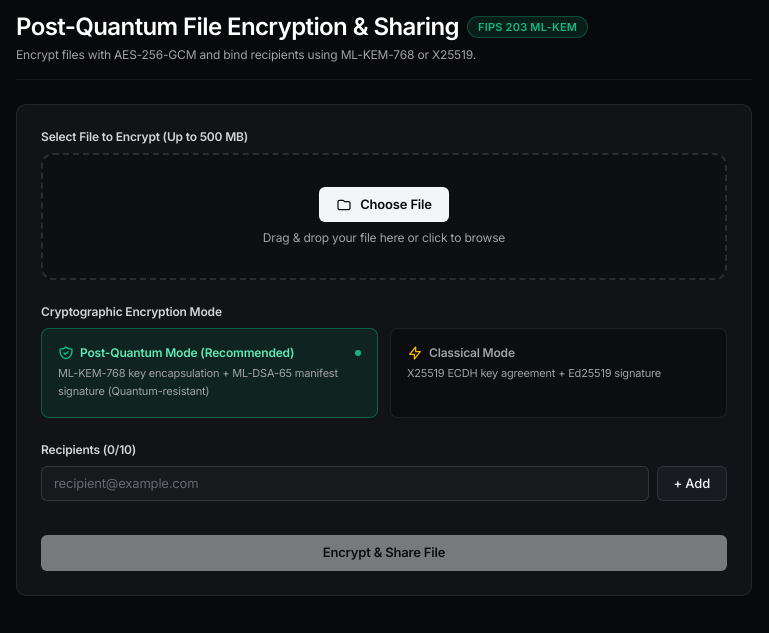
Test case: FileUpload Component › adds and removes recipient email pills
Note: Add first recipient
Type "bob@example.com" into the field labelled "Recipients (0/10)".
click(345, 484); type("bob@example.com")  # box [41, 466, 648, 501]
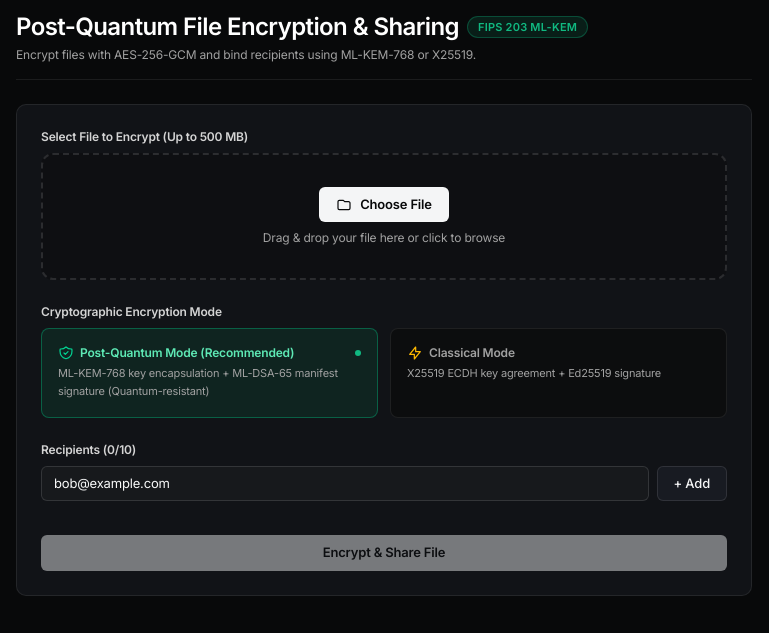
Click the button "+ Add".
click(692, 484)  # box [656, 466, 727, 501]
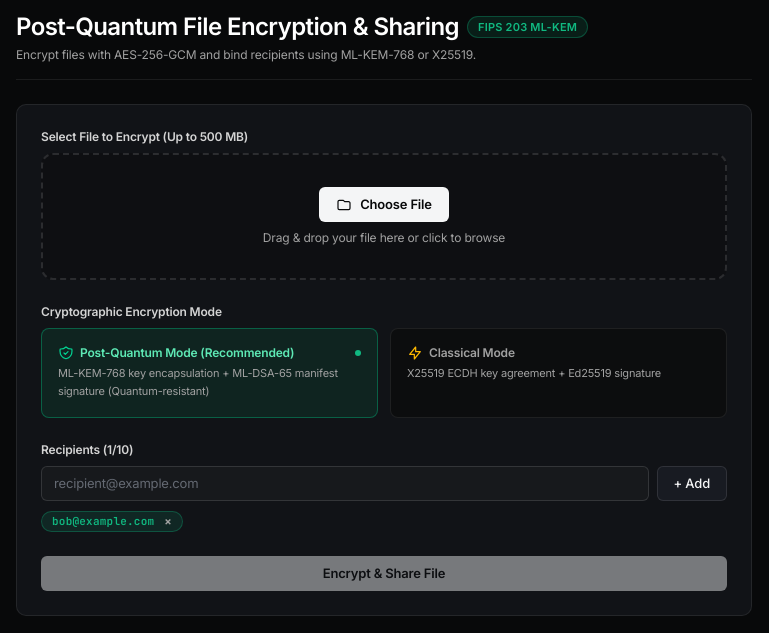
Result: the text "bob@example.com" is shown at [52, 514, 154, 529]
Note: Add second recipient
Type "alice@example.com" into the field labelled "Recipients (1/10)".
click(345, 484); type("alice@example.com")  # box [41, 466, 648, 501]
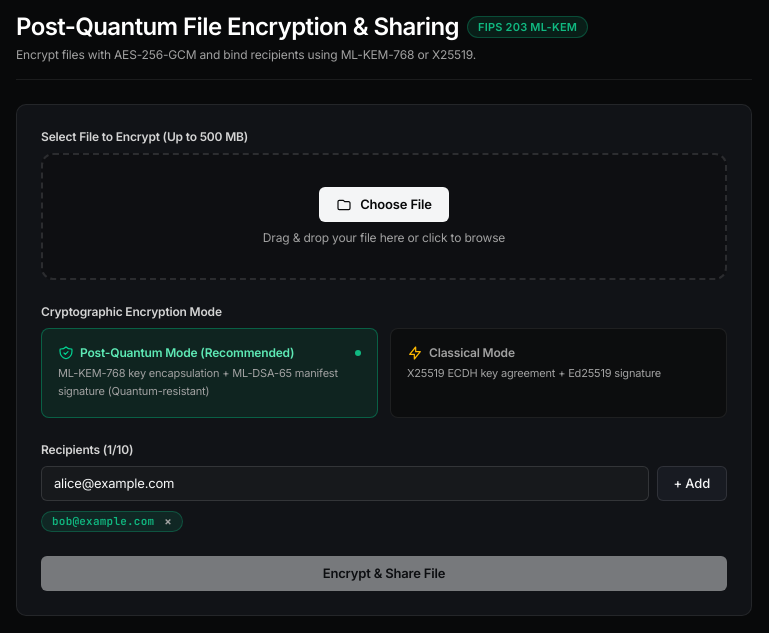
Click the button "+ Add".
click(692, 484)  # box [656, 466, 727, 501]
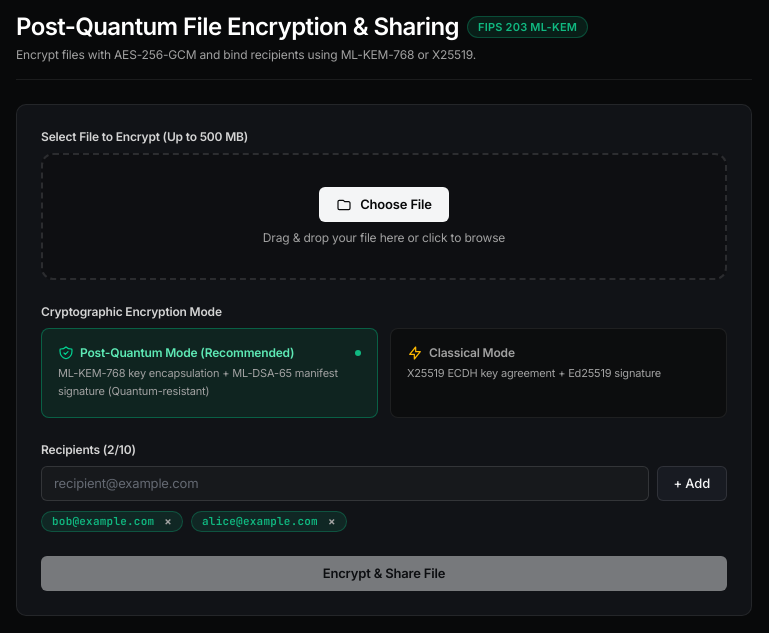
Result: the text "alice@example.com" is shown at [202, 514, 318, 529]
Note: Remove first recipient
Click the button "×" next to "bob@example.com".
click(168, 522)  # box [164, 514, 172, 529]
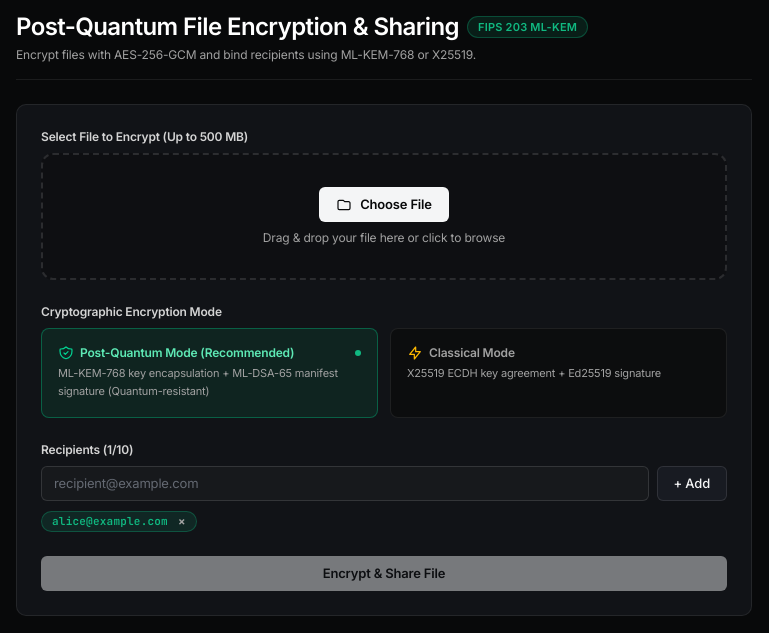
Result: the text "alice@example.com" is shown at [52, 514, 168, 529]
Result: the text "bob@example.com" is gone
